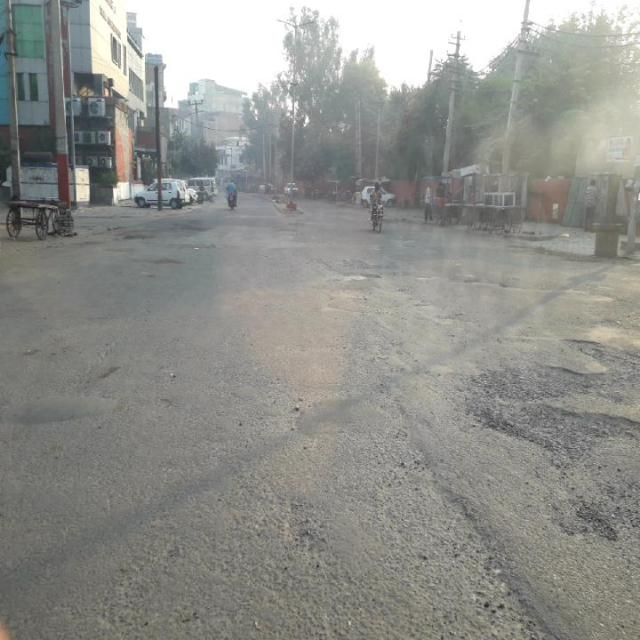Surface Erosion: (178, 201, 640, 636)
